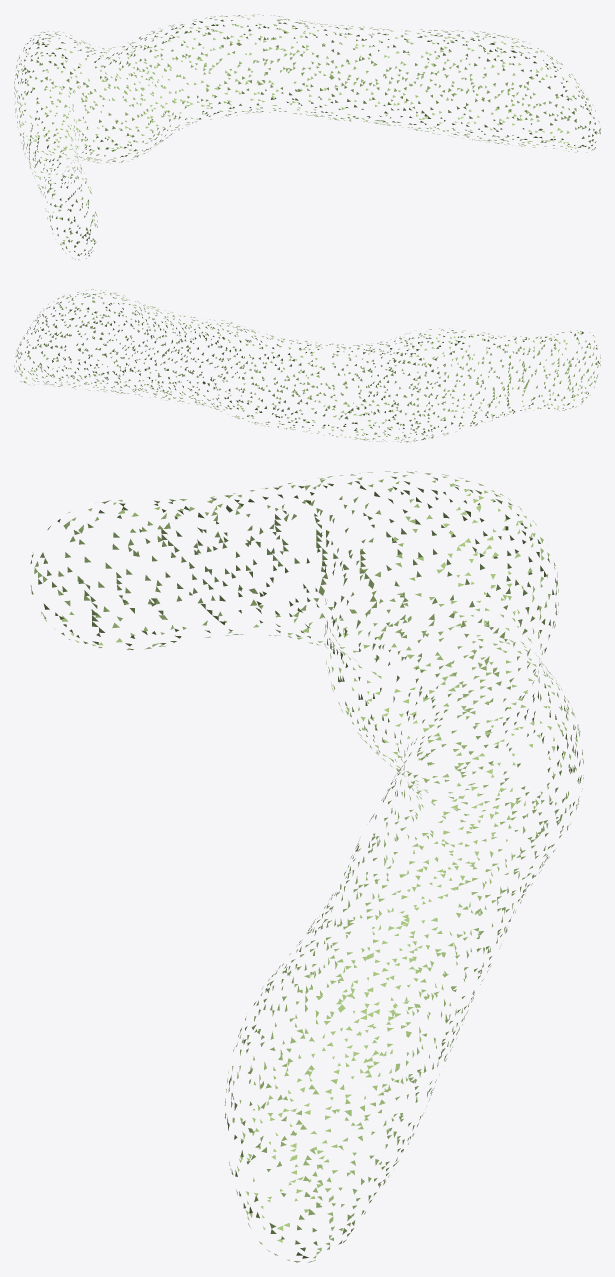
Rendered from morph_012.glb.
3 views of the same model, one above another, from view 1: azimuth 30°, elevation 25°; view 2: azimuth 150°, elevation 25°; view 3: azimuth 270°, elevation 25° (orthographic). The views are drawn at different scales.
Size of the model in its own units: 128 by 42.34 by 59.03.
